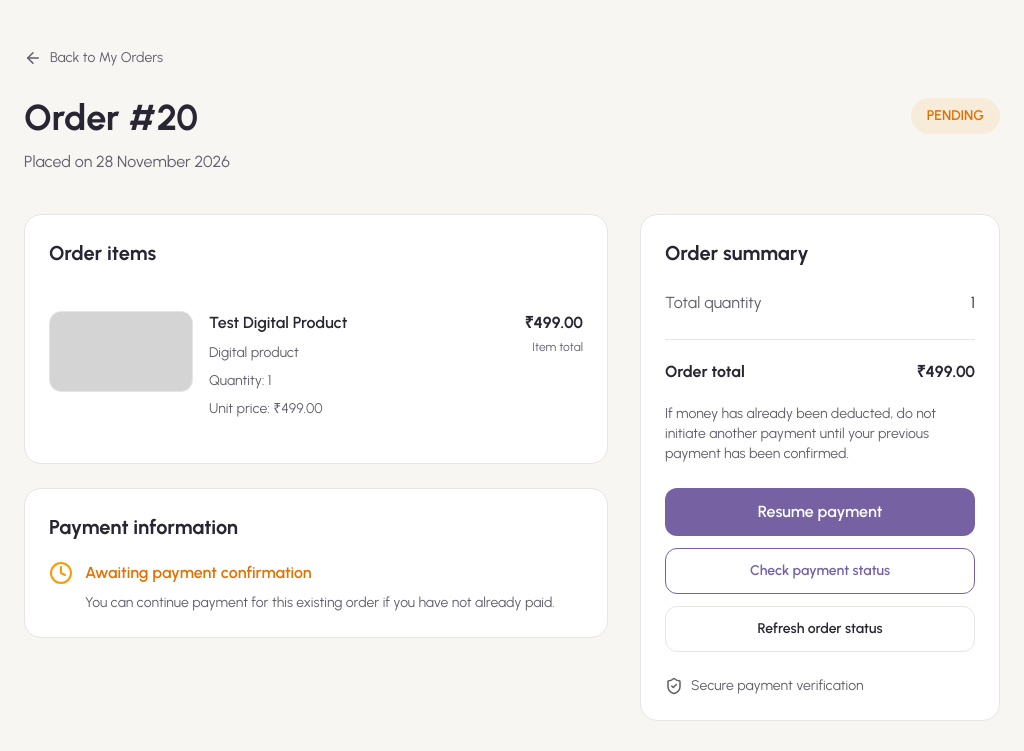
Test: OrderDetailsPage payment workflow › displays a recovery warning after checkout dismissal
Click the button "Resume payment". click: coordinates (820, 512)
box: [665,488,975,536]
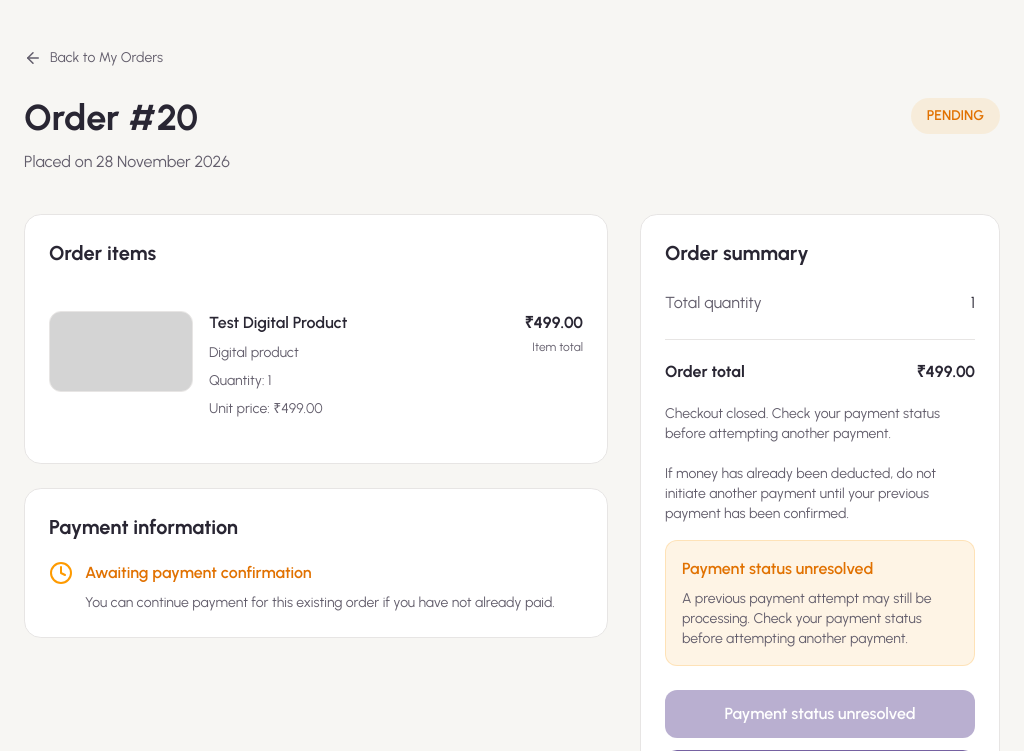
expect the text "PENDING" is shown: met, box [911,98,1000,134]
expect the message that starts with "Payment status unresolved" is shown: met, box [682,559,873,578]
expect the button "Payment status unresolved" is disabled: met, box [665,690,975,738]
